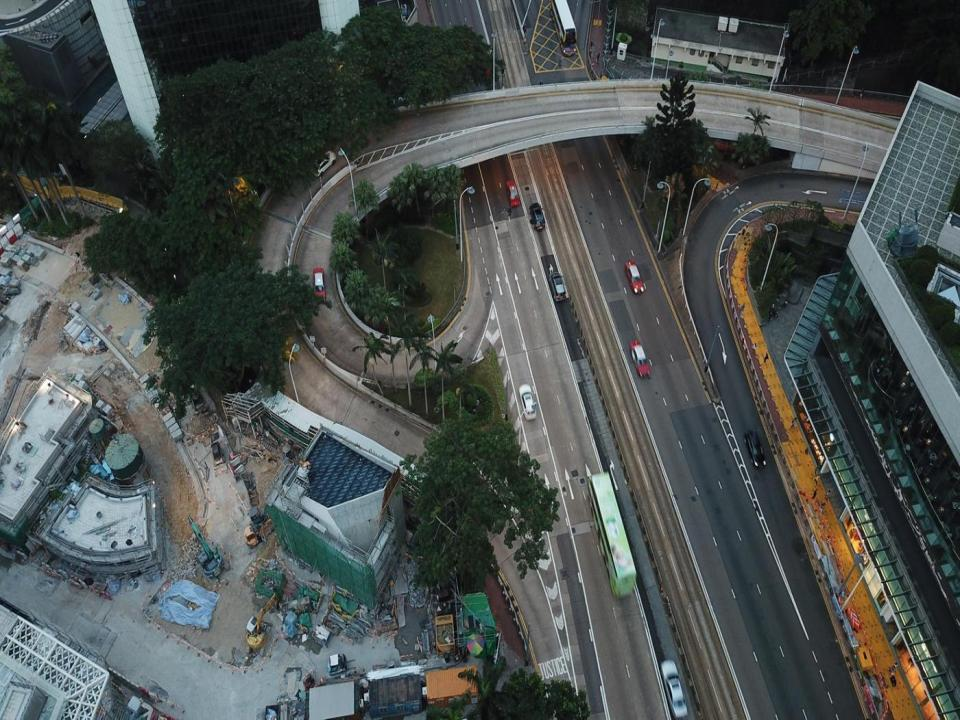bus: (586, 472, 636, 597), (550, 0, 579, 58)
car: (658, 654, 690, 719), (746, 430, 766, 472), (623, 259, 645, 295), (629, 340, 649, 379), (518, 378, 536, 420), (310, 149, 337, 174), (551, 267, 568, 303), (506, 178, 521, 208), (530, 199, 544, 231), (314, 263, 326, 299)
